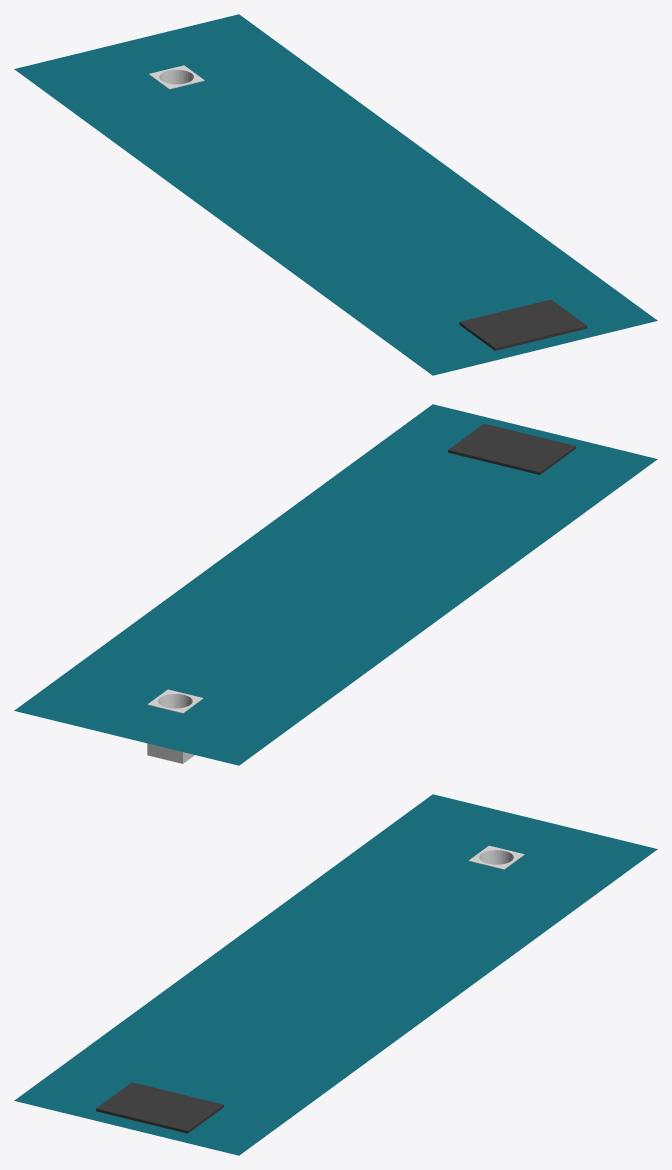
The model's file is boilerplate_level_tutorial.glb.
The picture shows the model from 3 angles, top to bottom: view 1: azimuth 30°, elevation 25°; view 2: azimuth 150°, elevation 25°; view 3: azimuth 330°, elevation 25°; orthographic projection.
Visible parts, largest first — view 1: Plane, Start, Cup; view 2: Plane, Start, Cup; view 3: Plane, Start, Cup.
Boxes of the visible parts, x1,y1,x2,y2 form: Plane: [14, 14, 657, 375]; Start: [459, 299, 587, 350]; Cup: [148, 65, 204, 89]; Plane: [14, 404, 657, 765]; Start: [448, 423, 575, 474]; Cup: [147, 689, 203, 763]; Plane: [14, 794, 657, 1155]; Start: [96, 1082, 223, 1133]; Cup: [468, 845, 524, 869].
Size of the model in its own units: 19.3 by 4.34 by 62.2.
